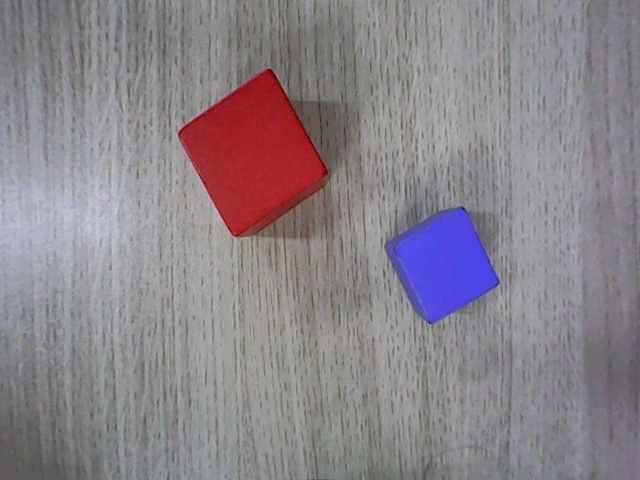upside of big cube: (177, 69, 329, 237)
upside of small cube: (394, 207, 500, 324)
